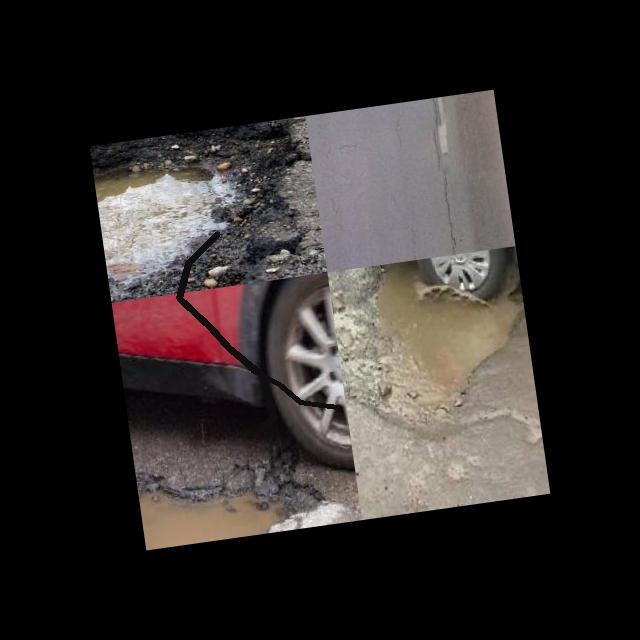road_crack: (169, 224, 283, 446)
